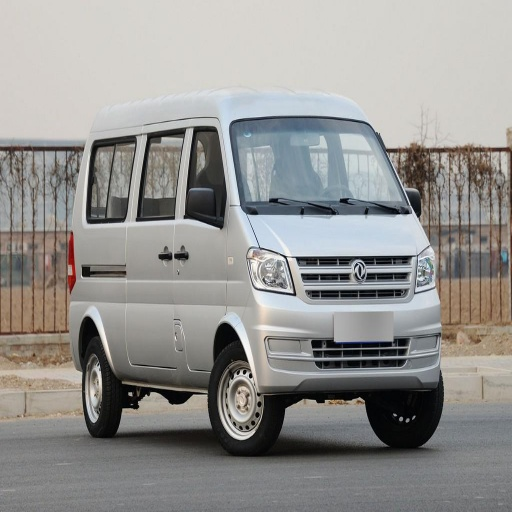back_right_door: (86, 125, 190, 278)
front_bumper: (238, 255, 443, 388)
front_right_door: (163, 123, 227, 291)
front_right_light: (247, 247, 294, 295)
hood: (251, 214, 426, 258)
trunk: (68, 258, 217, 378)
